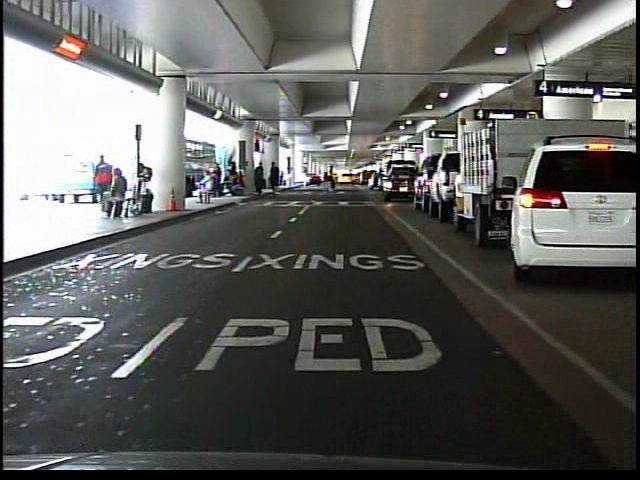person: (195, 171, 219, 208), (317, 163, 338, 196)
